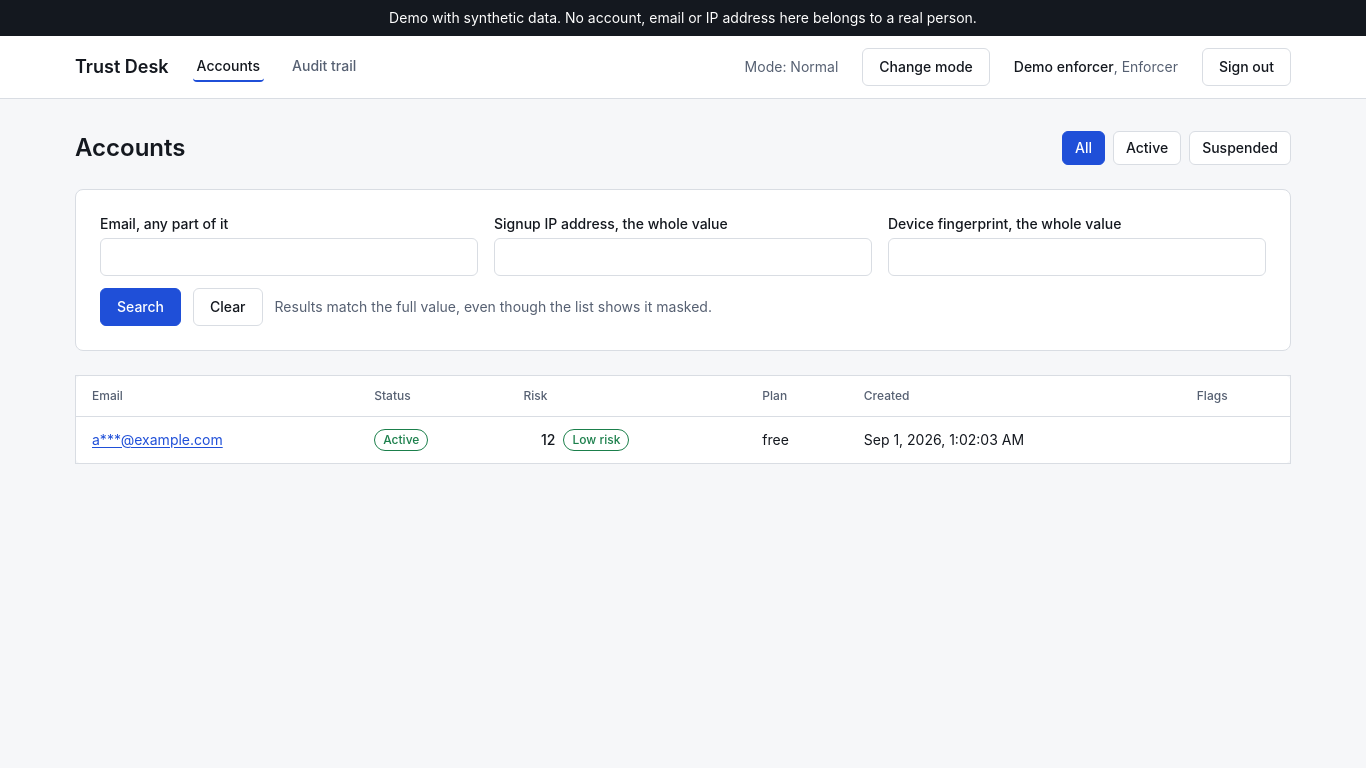
Test case: ModeChangeDialog › changes the mode, then shows the banner and refreshes the accounts
Check: the text "Mode: Normal" is shown, box [745, 57, 838, 77]
Check: the table is shown, box [75, 375, 1291, 464]
Click the button "Change mode" at (926, 67), box [862, 48, 990, 86]
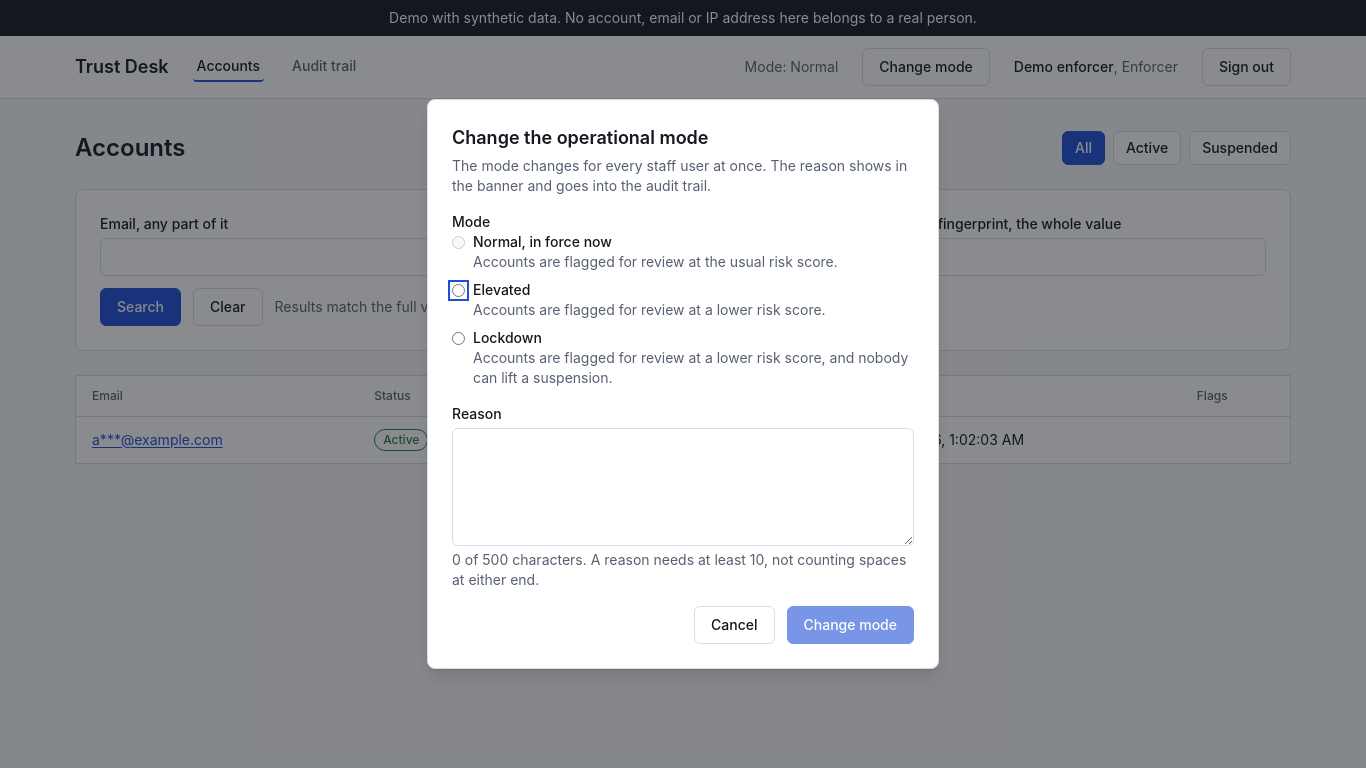
Click the radio button labelled "Elevated" at (458, 290), box [452, 284, 465, 297]
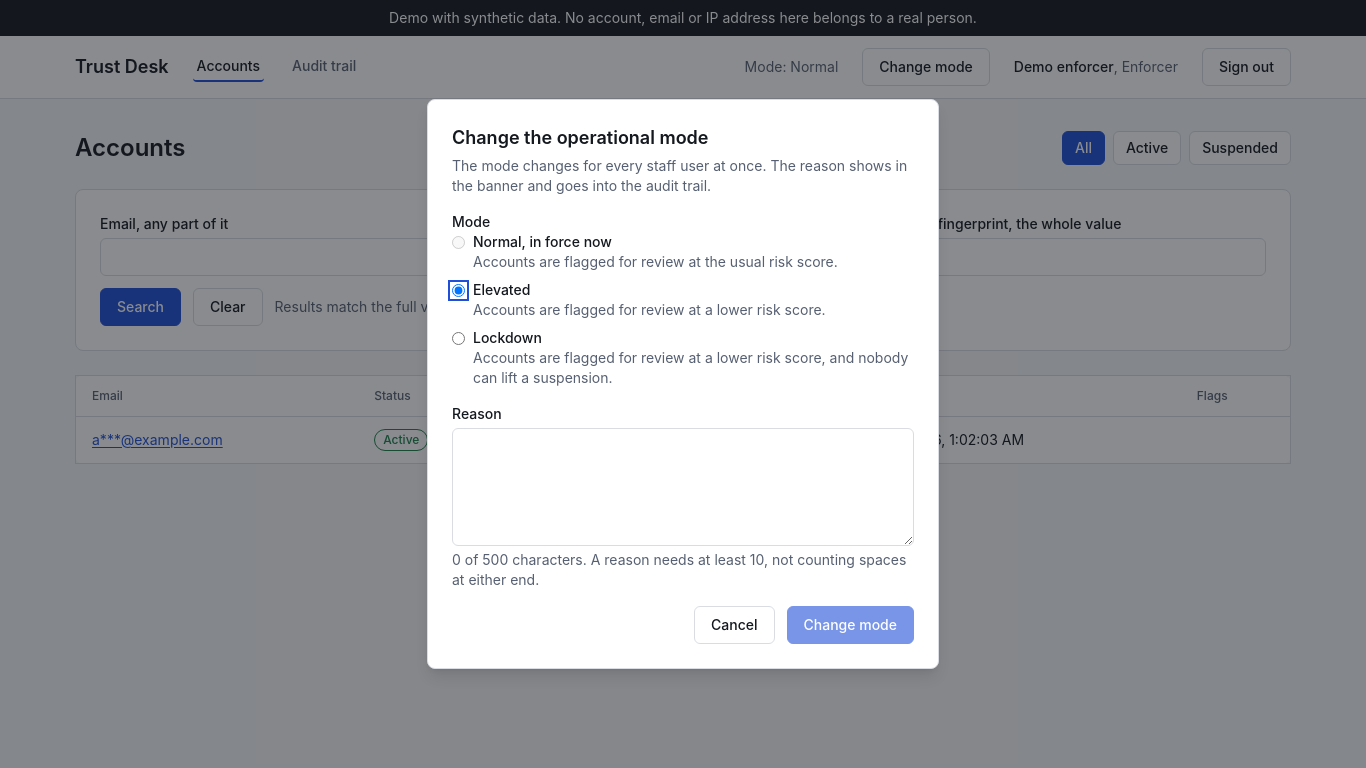
Type "Signup burst from one network in the last hour." into the text box labelled "Reason" at (683, 487), box [452, 428, 914, 546]
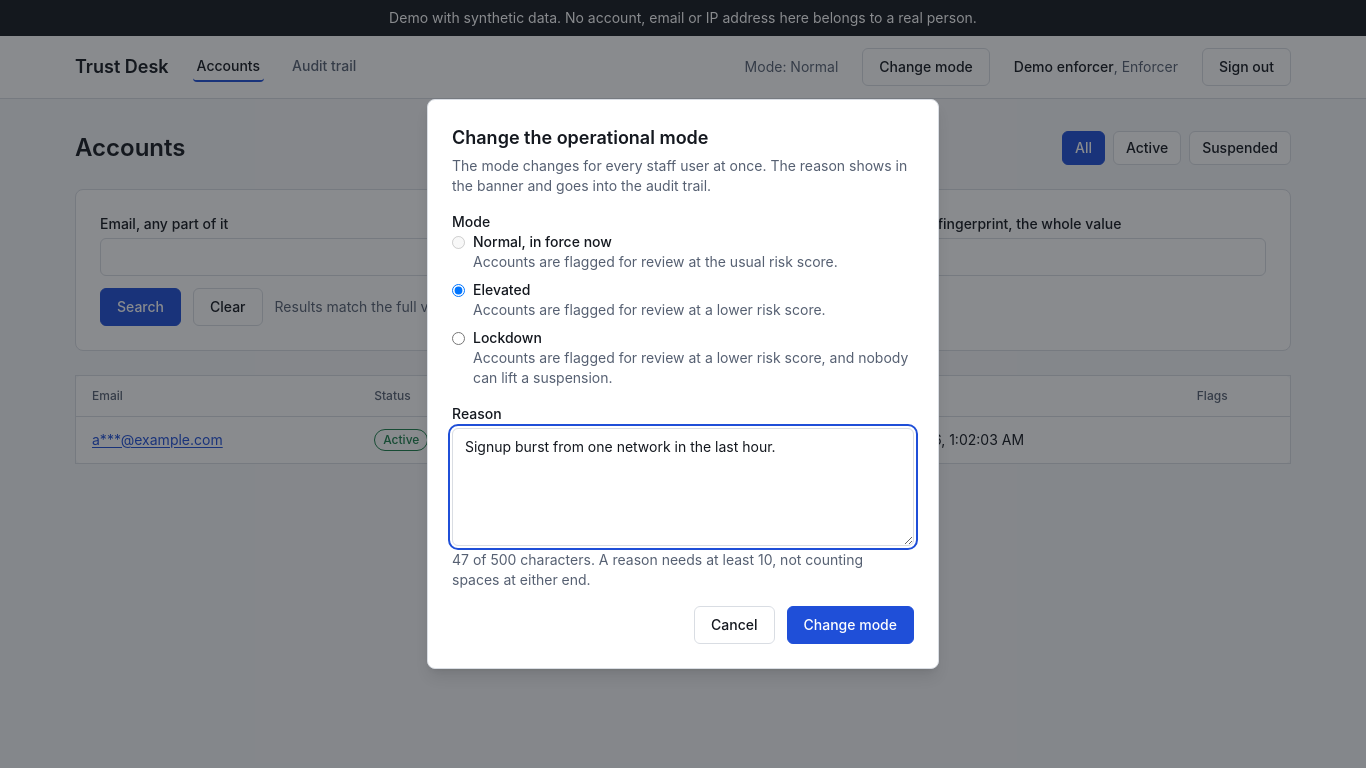
Click the button "Change mode" at (850, 625), box [786, 606, 914, 644]
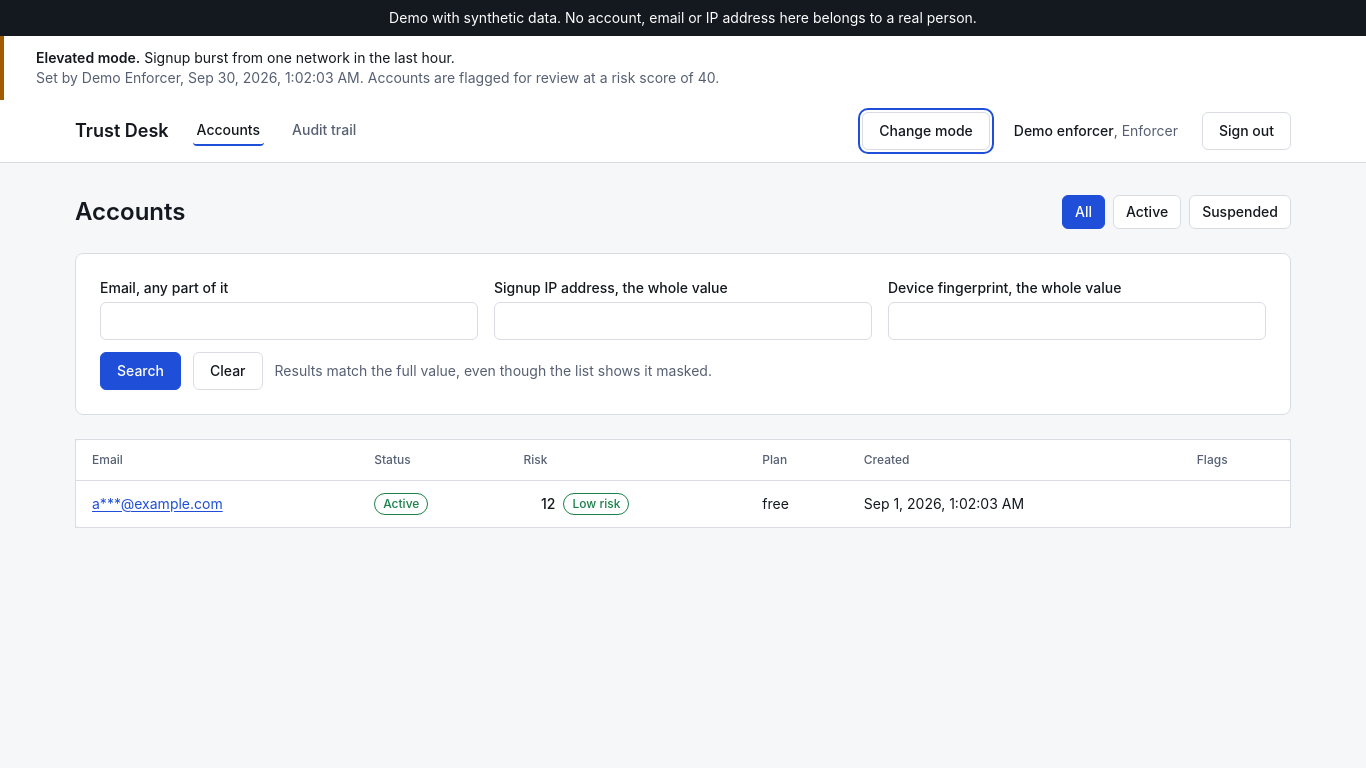
Check: the message named "Operational mode" shows "Elevated mode.", box [0, 36, 1365, 100]
Check: the dialog is gone
